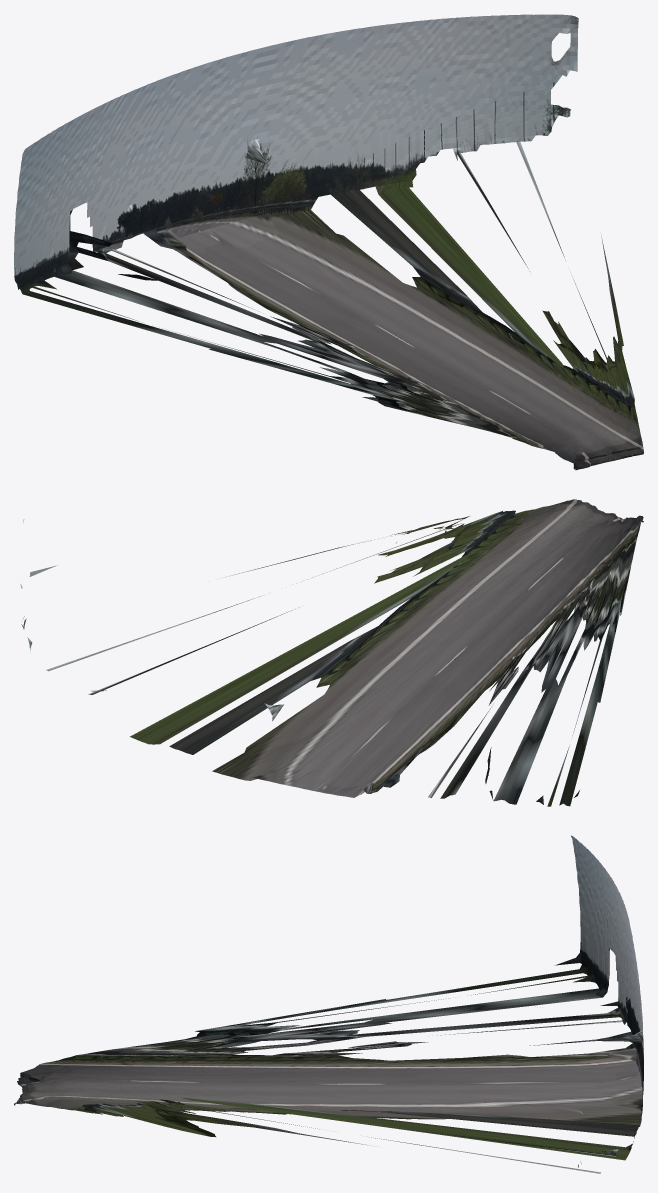
3 views of the same model, one above another, from view 1: azimuth 30°, elevation 25°; view 2: azimuth 150°, elevation 25°; view 3: azimuth 270°, elevation 25° (orthographic). The views are drawn at different scales.
Visible parts, largest first — view 1: defaultobject; view 2: defaultobject; view 3: defaultobject.
Boxes of the visible parts, x1,y1,x2,y2 form: defaultobject: [14, 14, 643, 470]; defaultobject: [20, 499, 643, 806]; defaultobject: [14, 835, 643, 1173].
Size of the model in its own units: 41.05 by 12.58 by 44.55.
Materials: 1 (1 with a texture image).
